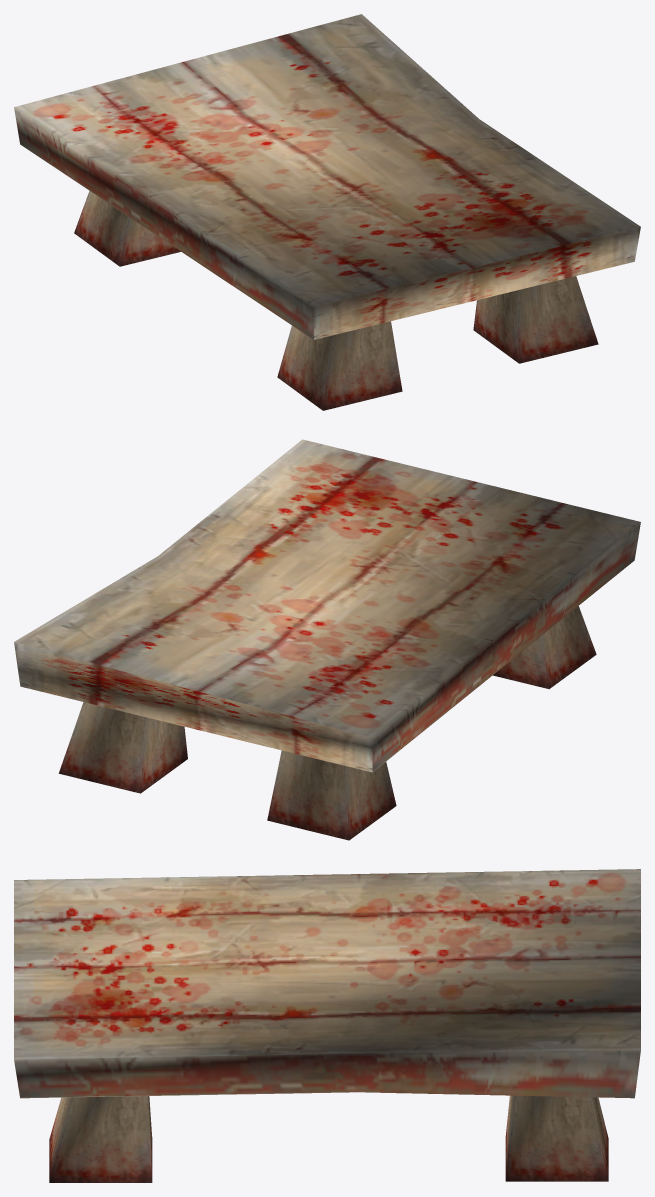
File: bloodytable3.obj
3 renders of one model, top to bottom at view 1: azimuth 30°, elevation 25°; view 2: azimuth 150°, elevation 25°; view 3: azimuth 270°, elevation 25°, orthographic. The views are drawn at different scales.
Visible parts, largest first — view 1: bloodytable3.m2; view 2: bloodytable3.m2; view 3: bloodytable3.m2.
Part boxes in pixels (x1,y1,x2,y2): bloodytable3.m2: (14, 14, 640, 410); bloodytable3.m2: (14, 439, 640, 840); bloodytable3.m2: (14, 869, 640, 1182).
Bounding box in the file's own units: 2.86 × 1.03 × 3.98.
1 material, 1 textured.
